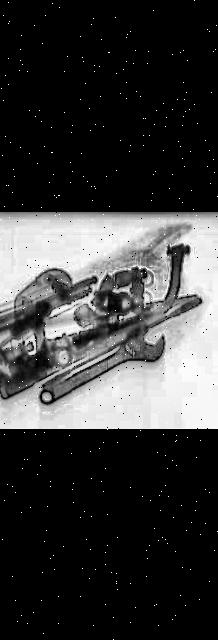Wrench: (14, 324, 194, 408)
